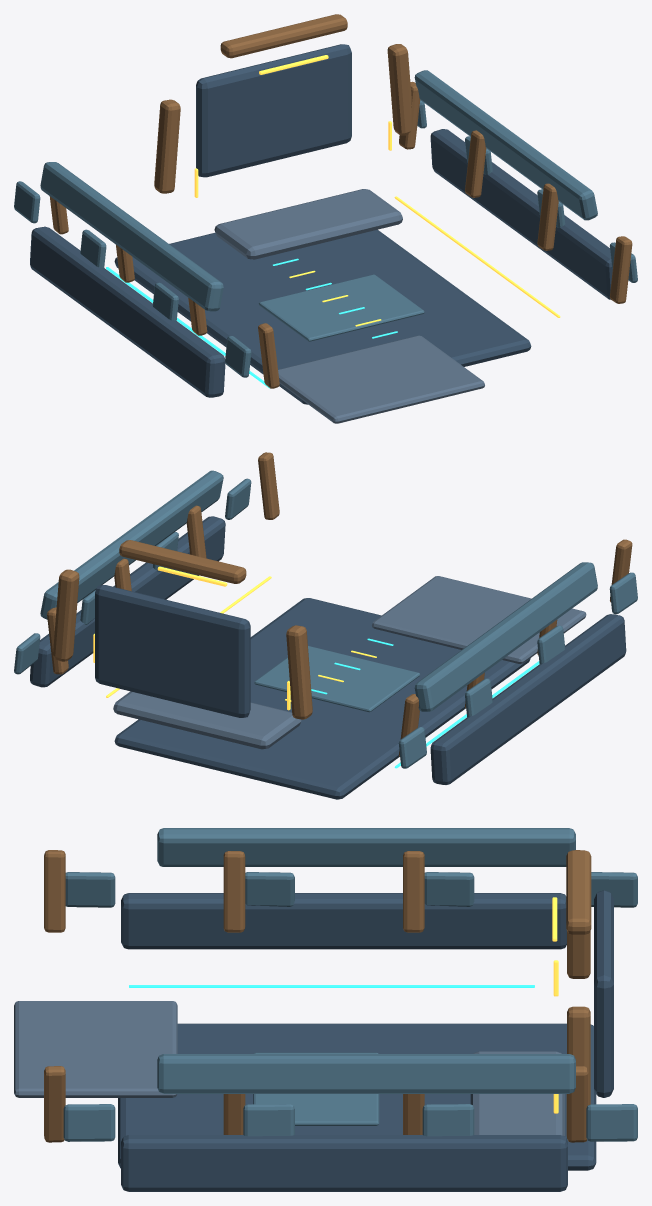
Rendered from pulseStructuralWorldV3.candidate.glb.
3 renders of one model, top to bottom at view 1: azimuth 30°, elevation 25°; view 2: azimuth 150°, elevation 25°; view 3: azimuth 270°, elevation 25°, orthographic. The views are drawn at different scales.
Parts seen in each view (by area): view 1: V3 joined V3 navy structural steel, V3 joined V3 blue wall panels, V3 joined V3 slate deck, V3 joined V3 restrained copper, V3 joined V3 amber guide, V3 joined V3 cyan guide; view 2: V3 joined V3 navy structural steel, V3 joined V3 blue wall panels, V3 joined V3 slate deck, V3 joined V3 restrained copper, V3 joined V3 amber guide, V3 joined V3 cyan guide; view 3: V3 joined V3 navy structural steel, V3 joined V3 blue wall panels, V3 joined V3 slate deck, V3 joined V3 restrained copper, V3 joined V3 cyan guide, V3 joined V3 amber guide.
Boxes of the visible parts, x1,y1,x2,y2 form: V3 joined V3 navy structural steel: (30, 44, 612, 404); V3 joined V3 blue wall panels: (14, 70, 637, 377); V3 joined V3 slate deck: (214, 189, 484, 423); V3 joined V3 restrained copper: (49, 14, 632, 388); V3 joined V3 amber guide: (194, 55, 560, 326); V3 joined V3 cyan guide: (106, 258, 397, 388); V3 joined V3 navy structural steel: (30, 516, 626, 799); V3 joined V3 blue wall panels: (14, 470, 637, 768); V3 joined V3 slate deck: (113, 576, 586, 749); V3 joined V3 restrained copper: (47, 452, 632, 756); V3 joined V3 amber guide: (93, 566, 376, 710); V3 joined V3 cyan guide: (311, 638, 539, 768); V3 joined V3 navy structural steel: (118, 890, 613, 1191); V3 joined V3 blue wall panels: (63, 828, 637, 1141); V3 joined V3 slate deck: (14, 1001, 564, 1136); V3 joined V3 restrained copper: (44, 850, 591, 1142); V3 joined V3 cyan guide: (129, 985, 534, 987); V3 joined V3 amber guide: (552, 897, 558, 1113).
Size of the model in its own units: 9.56 by 4.39 by 9.91.
